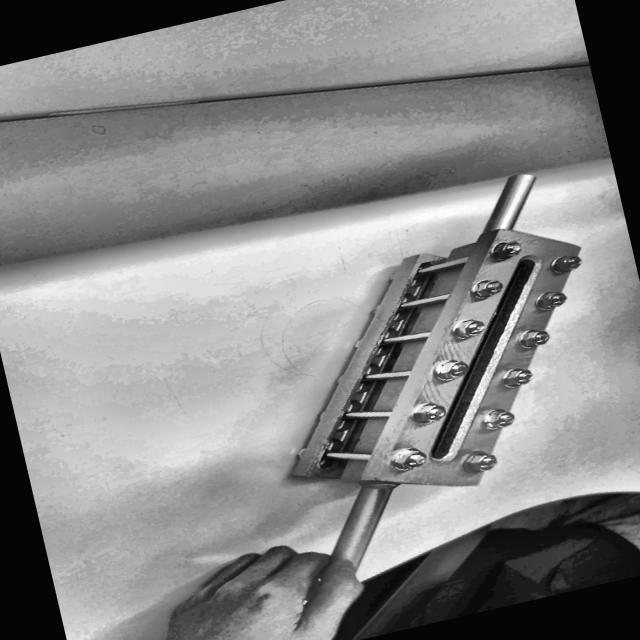ShuiWeiQi_12: (263, 155, 640, 555)
